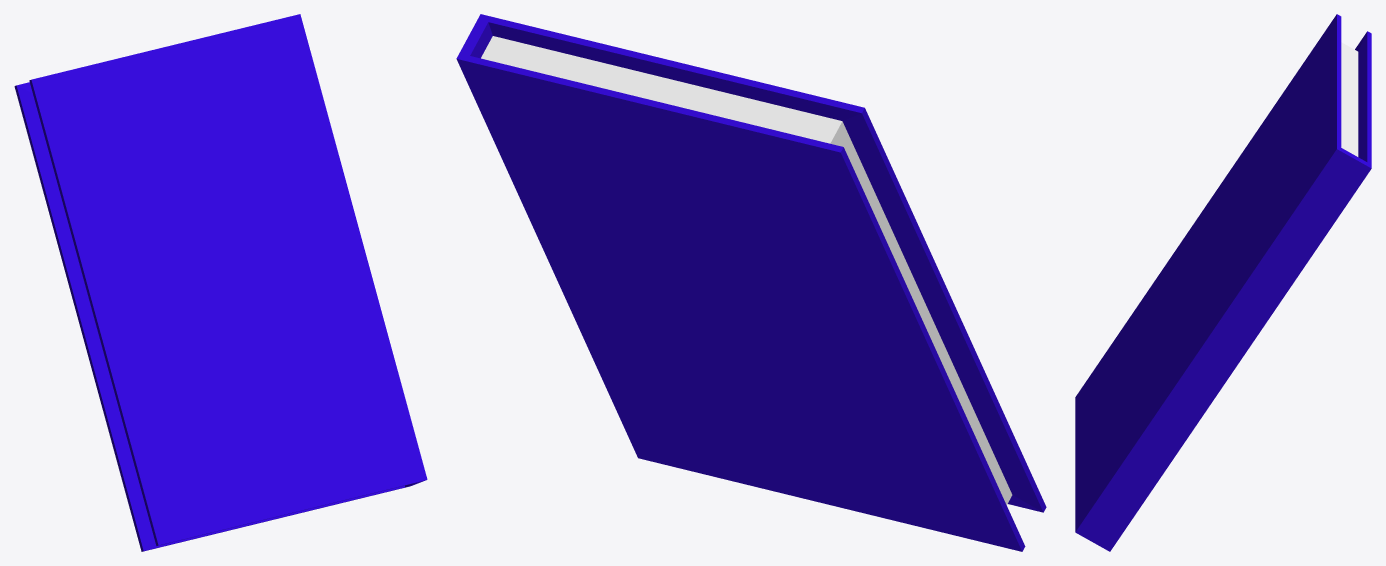
File: LibroAzul.fbx
3 views of the same model, side by side, from view 1: azimuth 30°, elevation 25°; view 2: azimuth 150°, elevation 25°; view 3: azimuth 270°, elevation 25° (orthographic). The views are drawn at different scales.
Visible parts, largest first — view 1: Cubo.1928; view 2: Cubo.1928; view 3: Cubo.1928.
Boxes of the visible parts, bbox=[...] form: Cubo.1928: bbox=[14, 14, 427, 551]; Cubo.1928: bbox=[456, 14, 1046, 551]; Cubo.1928: bbox=[1075, 14, 1371, 551].
Size of the model in its own units: 17.59 by 24.47 by 16.31.
